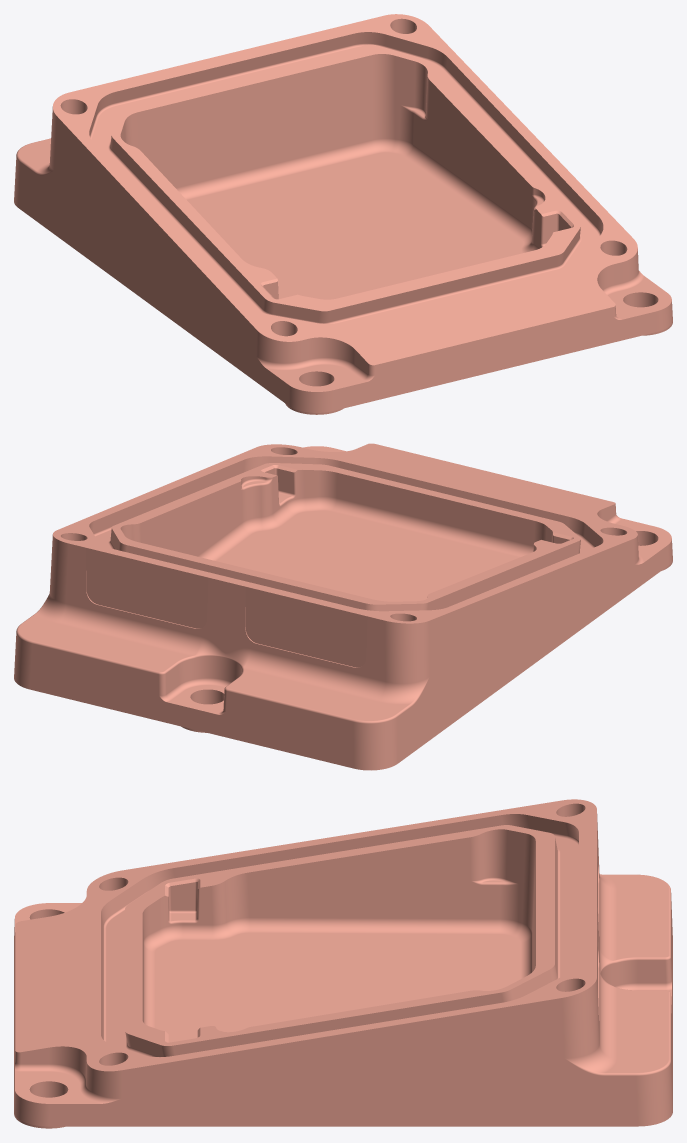
Rendered from Bottom_Housing_Casted_3_MTi_6x0R_simple_2__MTi_6x0R_simple.gltf.
3 views of the same model, one above another, from view 1: azimuth 30°, elevation 25°; view 2: azimuth 150°, elevation 25°; view 3: azimuth 270°, elevation 25° (orthographic). The views are drawn at different scales.
Parts seen in each view (by area): view 1: mesh16534, mesh16414, mesh16397, mesh16486, mesh16480, mesh16388, mesh16549, mesh16447, mesh16488, mesh16423, mesh16470, mesh16535 (+14 smaller); view 2: mesh16397, mesh16534, mesh16414, mesh16359, mesh16401, mesh16403, mesh16409, mesh16480, mesh16518, mesh16549, mesh16361, mesh16335 (+20 smaller); view 3: mesh16327, mesh16534, mesh16414, mesh16507, mesh16480, mesh16447, mesh16335, mesh16361, mesh16498, mesh16474, mesh16419, mesh16329 (+26 smaller).
Part boxes in pixels (x1,y1,x2,y2): mesh16534: [187, 152, 523, 299]; mesh16414: [53, 14, 637, 365]; mesh16397: [18, 116, 289, 405]; mesh16486: [137, 55, 372, 187]; mesh16480: [111, 44, 580, 311]; mesh16388: [333, 307, 656, 410]; mesh16549: [413, 80, 532, 227]; mesh16447: [91, 61, 599, 312]; mesh16488: [176, 140, 377, 199]; mesh16423: [115, 33, 354, 102]; mesh16470: [328, 255, 557, 321]; mesh16535: [404, 145, 530, 239]; mesh16397: [397, 539, 668, 763]; mesh16534: [216, 510, 519, 601]; mesh16414: [53, 443, 637, 623]; mesh16359: [30, 643, 353, 768]; mesh16401: [66, 543, 385, 681]; mesh16403: [245, 587, 367, 667]; mesh16409: [86, 548, 208, 628]; mesh16480: [111, 463, 580, 604]; mesh16518: [337, 472, 534, 545]; mesh16549: [140, 481, 242, 556]; mesh16361: [226, 669, 408, 720]; mesh16335: [18, 613, 190, 671]; mesh16327: [49, 998, 637, 1126]; mesh16534: [155, 933, 520, 1042]; mesh16414: [15, 799, 596, 1071]; mesh16507: [248, 837, 500, 918]; mesh16480: [125, 825, 554, 1045]; mesh16447: [106, 836, 578, 1049]; mesh16335: [605, 988, 668, 1072]; mesh16361: [606, 875, 668, 959]; mesh16498: [249, 917, 499, 934]; mesh16474: [173, 992, 502, 1055]; mesh16419: [173, 815, 502, 878]; mesh16329: [562, 979, 599, 1058].
Size of the model in its own units: 0.0409 by 0.0127 by 0.0565.
